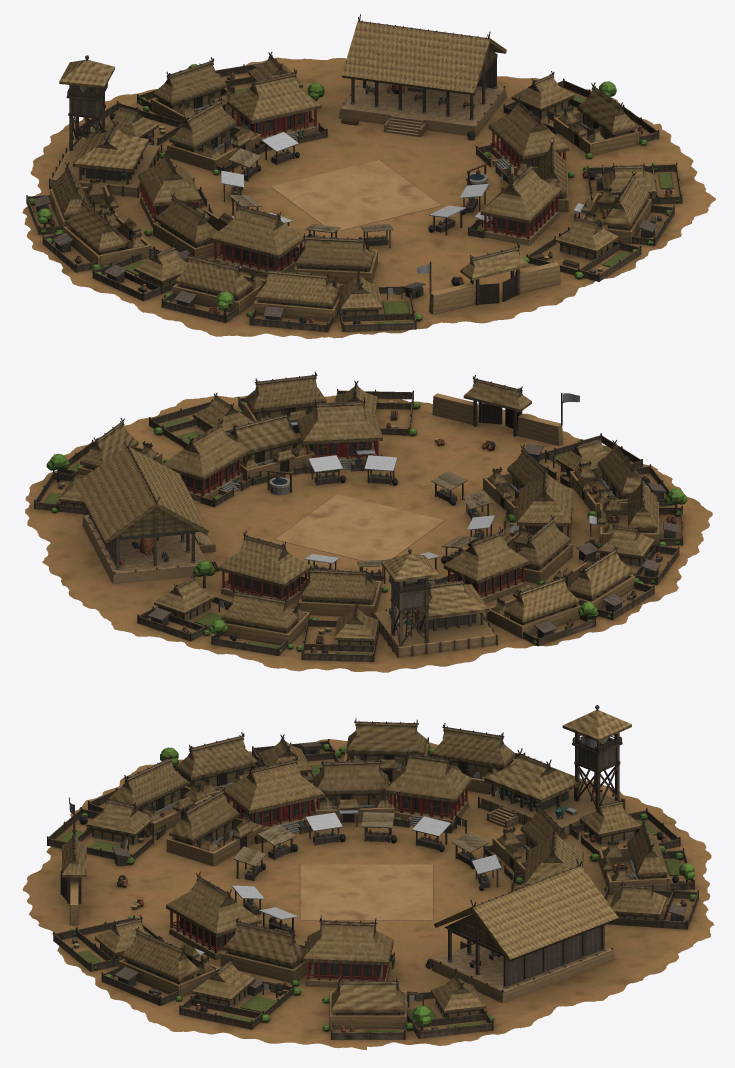
File: bronze-town-big-a-sinic.glb
3 views of the same model, one above another, from view 1: azimuth 30°, elevation 25°; view 2: azimuth 150°, elevation 25°; view 3: azimuth 270°, elevation 25° (orthographic). The views are drawn at different scales.
Visible parts, largest first — view 1: LOD0; view 2: LOD0; view 3: LOD0.
Part boxes in pixels (bbox=[...]): LOD0: bbox=[22, 14, 715, 338]; LOD0: bbox=[25, 371, 712, 672]; LOD0: bbox=[22, 705, 713, 1049].
Size of what is drawn, in the model's own units: 7.93 by 1.26 by 7.49.
Materials: 3 (3 with a texture image).
